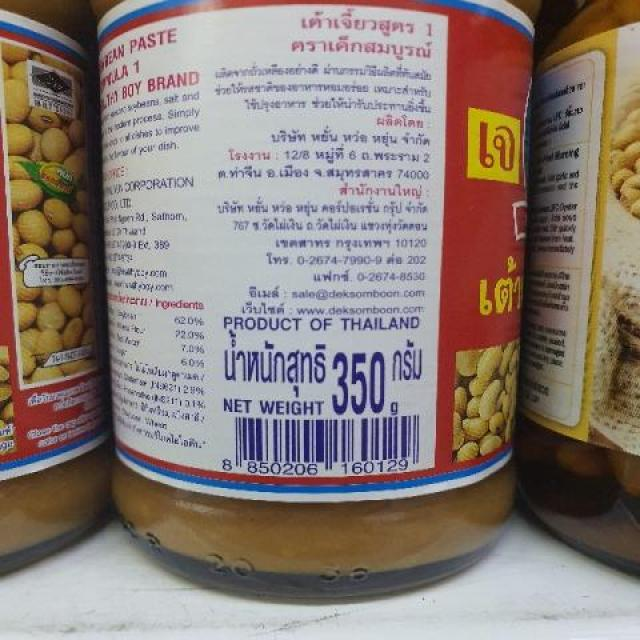Barcode: (216, 413, 427, 478)
